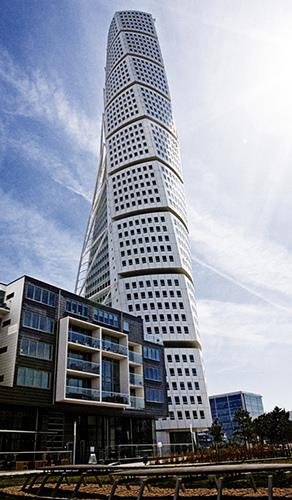turinng_torso: (80, 6, 216, 444)
